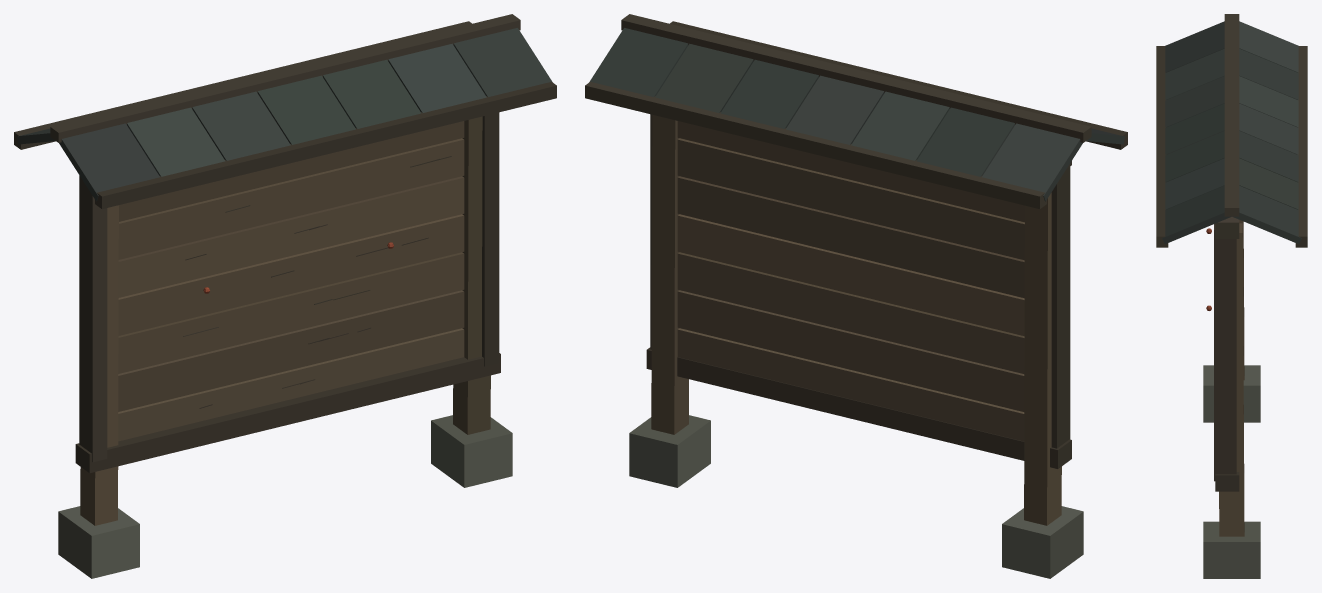
File: notice_board.glb
The picture shows the model from 3 angles, left to right: view 1: azimuth 30°, elevation 25°; view 2: azimuth 150°, elevation 25°; view 3: azimuth 270°, elevation 25°; orthographic projection. The views are drawn at different scales.
Parts seen in each view (by area): view 1: notice_board; view 2: notice_board; view 3: notice_board.
Boxes of the visible parts, <box> form: notice_board: <box>14,14,556,578</box>; notice_board: <box>585,14,1127,578</box>; notice_board: <box>1156,14,1307,578</box>.
Size of the model in its own units: 3.82 by 3.49 by 1.26.
